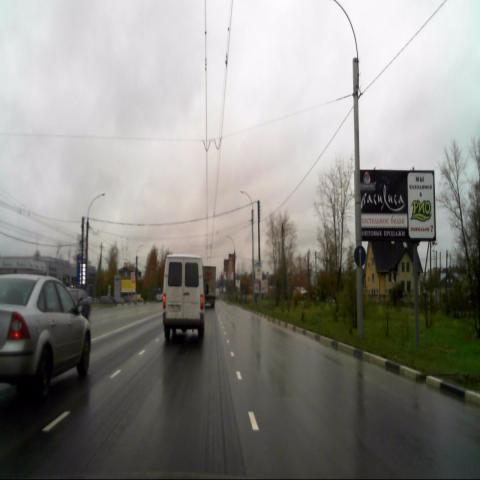4_1_1: (354, 244, 366, 269)
